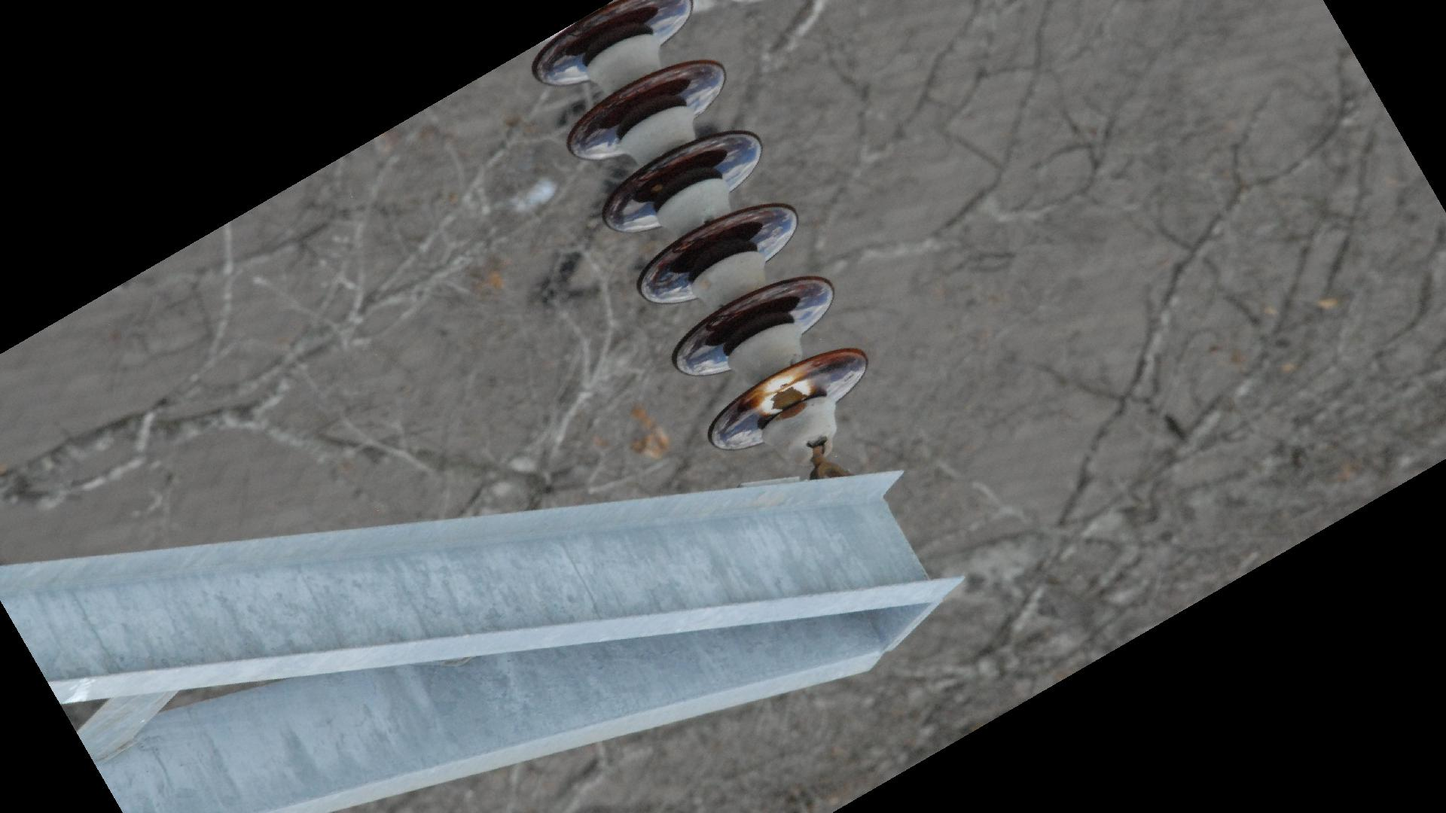insulator: (526, 1, 874, 457)
insulator_flashover: (756, 364, 815, 419)
